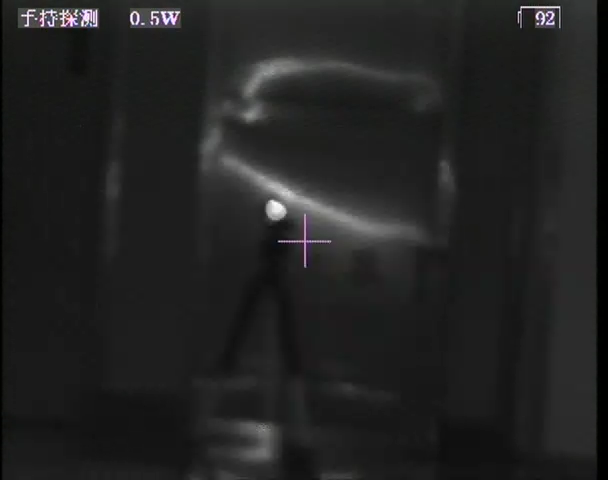my: (260, 196, 288, 223)
